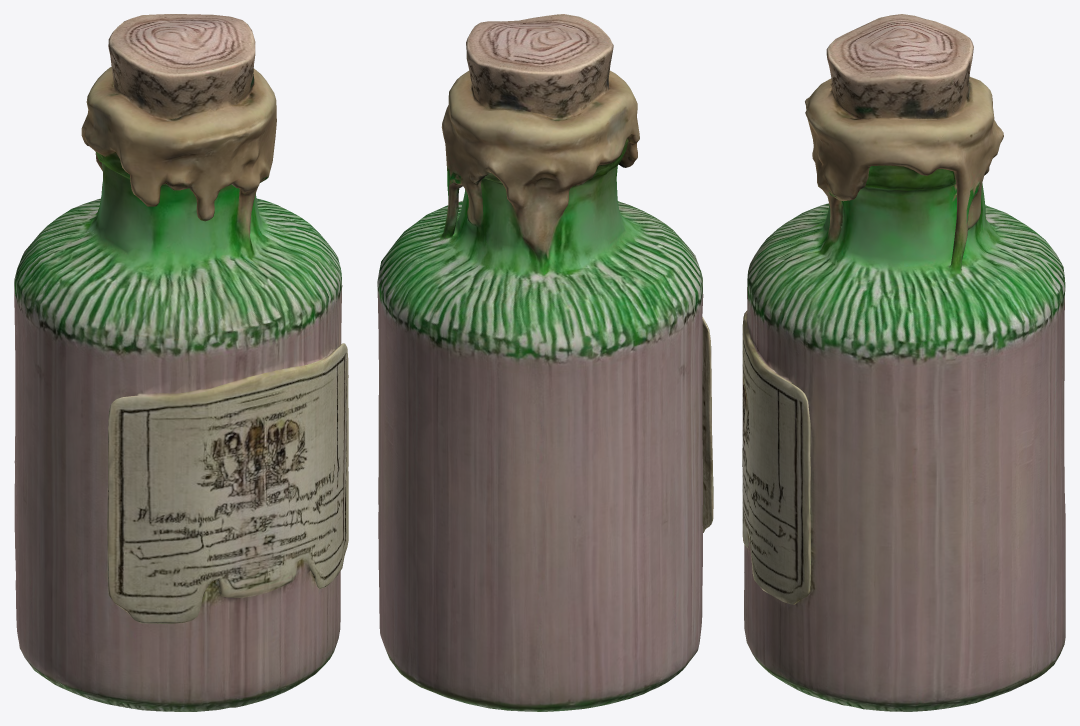
File: pickup_tonic.glb
The picture shows the model from 3 angles, left to right: view 1: azimuth 30°, elevation 25°; view 2: azimuth 150°, elevation 25°; view 3: azimuth 270°, elevation 25°; orthographic projection.
Bounding box in the file's own units: 0.0855 × 0.185 × 0.0857.
1 material, 1 textured.
